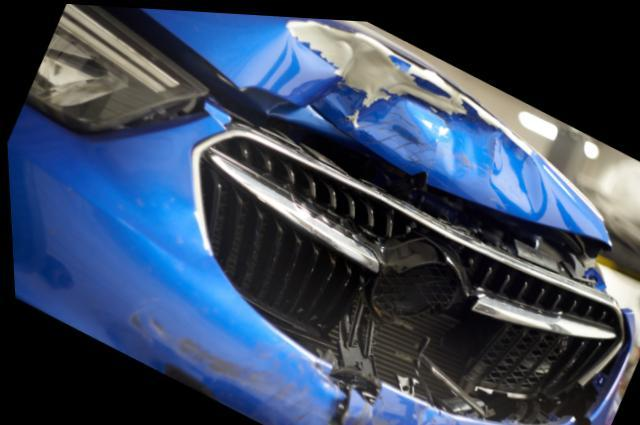crack: (319, 362, 349, 425), (566, 408, 587, 425)
dent: (254, 13, 544, 212)
dislocated part: (87, 4, 609, 292)
no part: (324, 234, 486, 398)
scratch: (128, 308, 310, 415)
